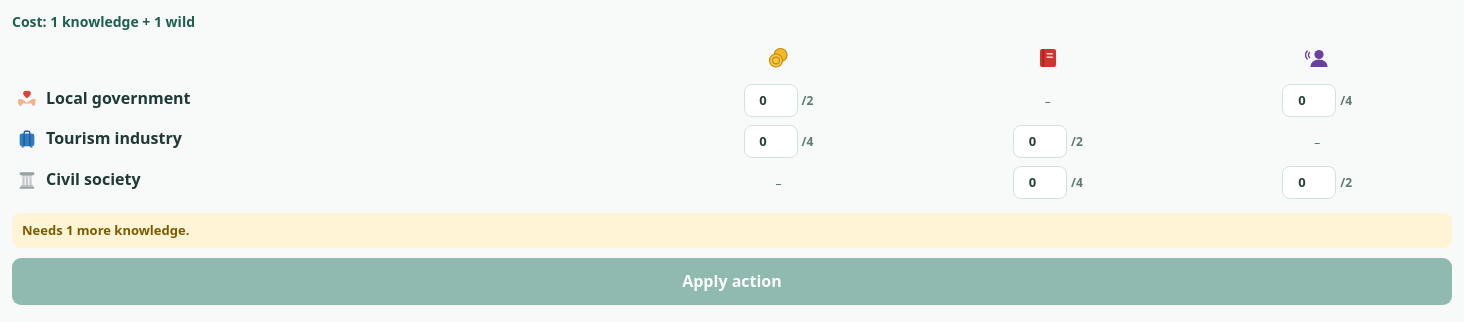
it: FundingForm › rejects paying more than the cost
The width and height of the screenshot is (1464, 322).
Type "3" into the number field named "Civil Society pays knowledge".
click(1040, 183); type("3")  # box [1013, 166, 1067, 199]
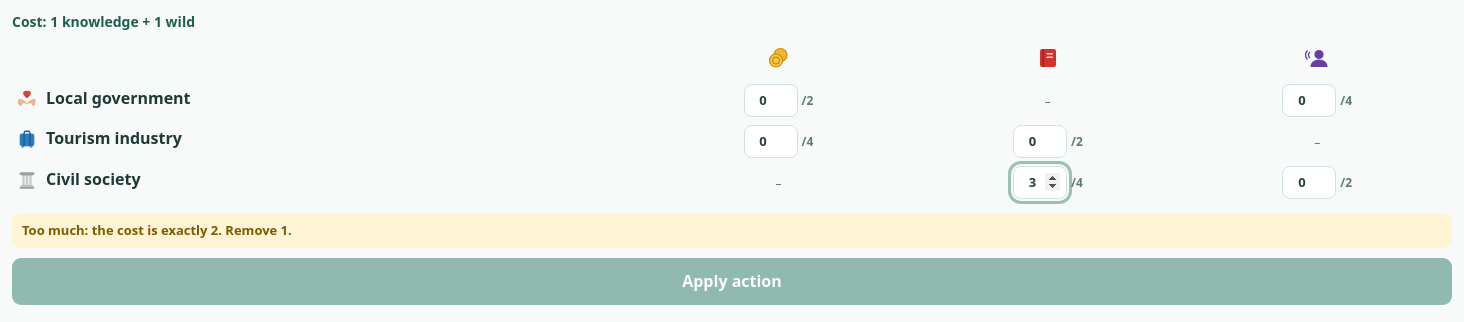
Expected: the button "Apply action" is disabled, [12, 258, 1452, 305]
Now the message shows "Too much", box [22, 221, 292, 239]
